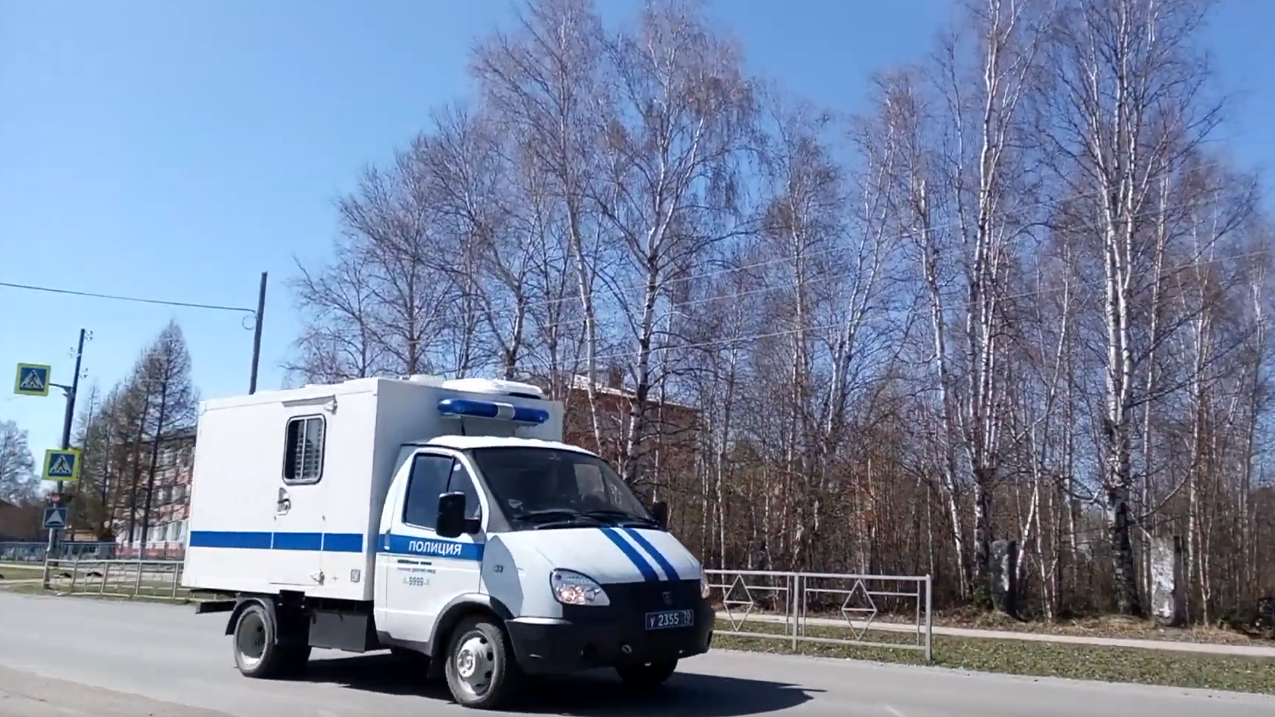police car: (183, 376, 714, 709)
